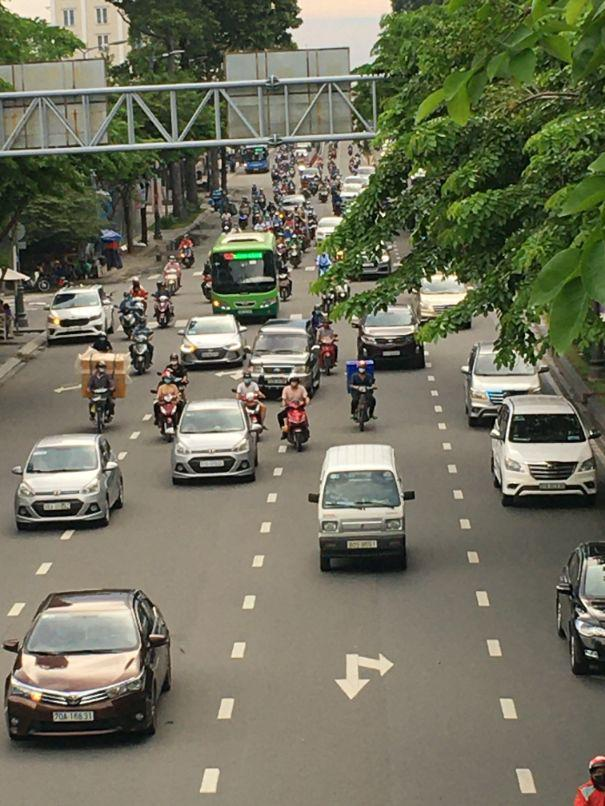bus: (208, 233, 282, 328)
car: (4, 585, 174, 745), (316, 444, 410, 577), (489, 397, 596, 510), (11, 434, 127, 534), (169, 399, 258, 485), (461, 344, 545, 427), (555, 543, 605, 682), (248, 321, 319, 401), (355, 307, 422, 373), (46, 287, 112, 346), (181, 315, 245, 369)
motorbike: (350, 363, 379, 433), (154, 377, 187, 438), (278, 403, 312, 452), (127, 325, 153, 375), (87, 386, 116, 430)
